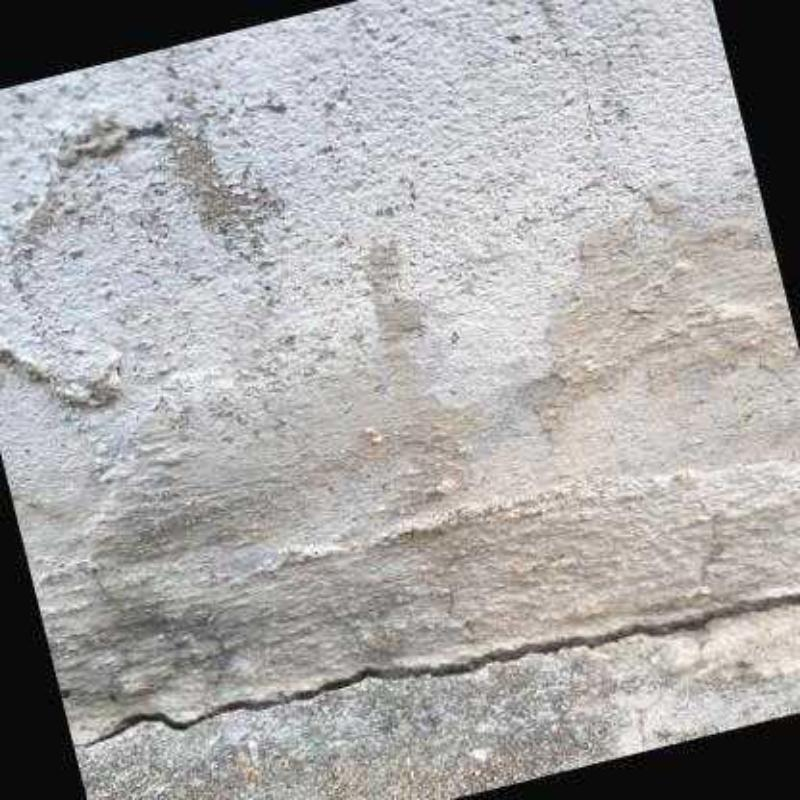pothole: (73, 593, 798, 748)
